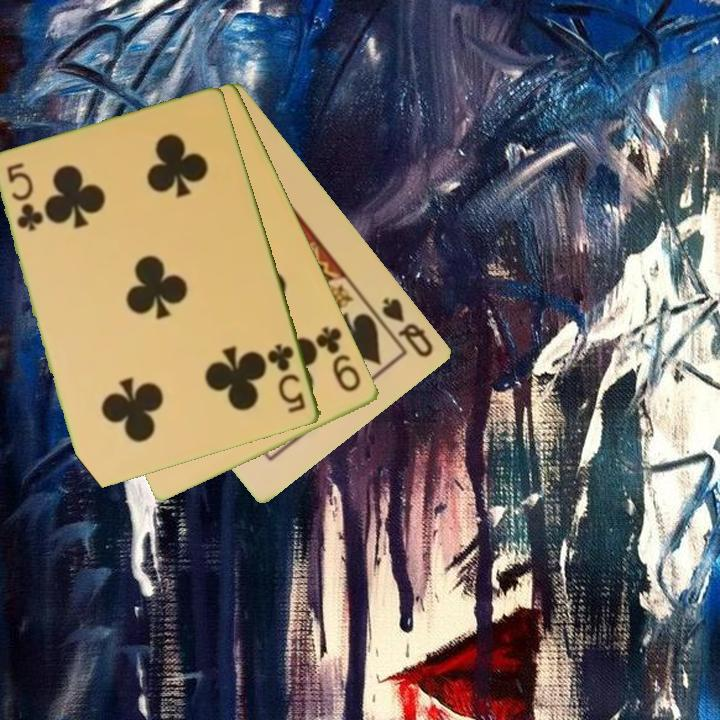5c: (264, 340, 309, 417), (3, 159, 44, 235)
9c: (312, 322, 365, 395)
Qs: (379, 293, 437, 361)
